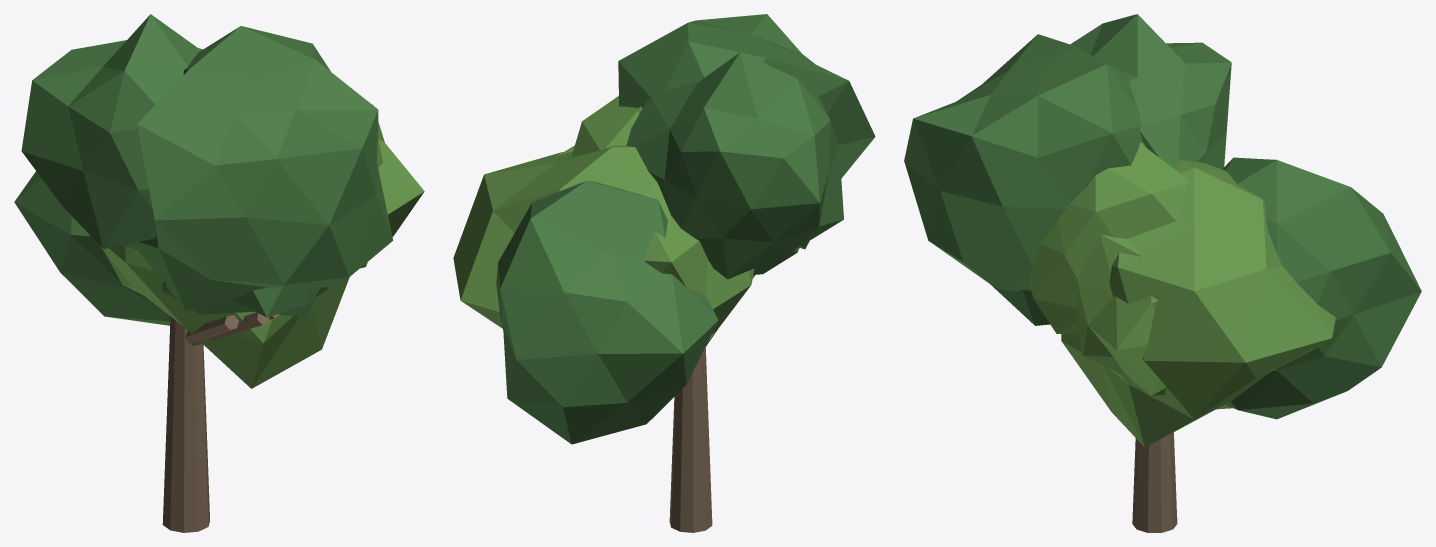
Rendered from Tree_Oak_0.fbx.
3 renders of one model, left to right at view 1: azimuth 30°, elevation 25°; view 2: azimuth 150°, elevation 25°; view 3: azimuth 270°, elevation 25°, orthographic. The views are drawn at different scales.
Parts seen in each view (by area): view 1: Tree_Oak_0; view 2: Tree_Oak_0; view 3: Tree_Oak_0.
Part boxes in pixels (x1=…): Tree_Oak_0: x1=14, y1=14, x2=424, y2=532; Tree_Oak_0: x1=453, y1=14, x2=875, y2=532; Tree_Oak_0: x1=904, y1=14, x2=1421, y2=532.
Bounding box in the file's own units: 6.48 × 8.41 × 8.77.
